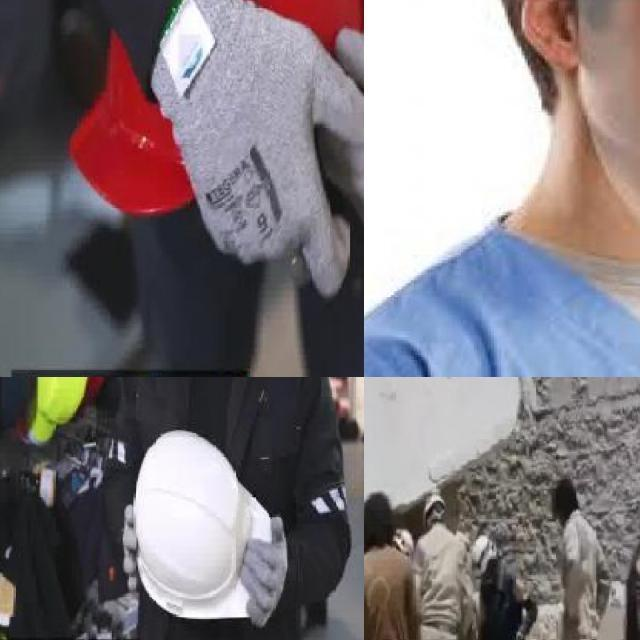apron: (151, 0, 364, 301), (316, 21, 364, 234), (243, 512, 289, 632), (120, 502, 139, 596)
